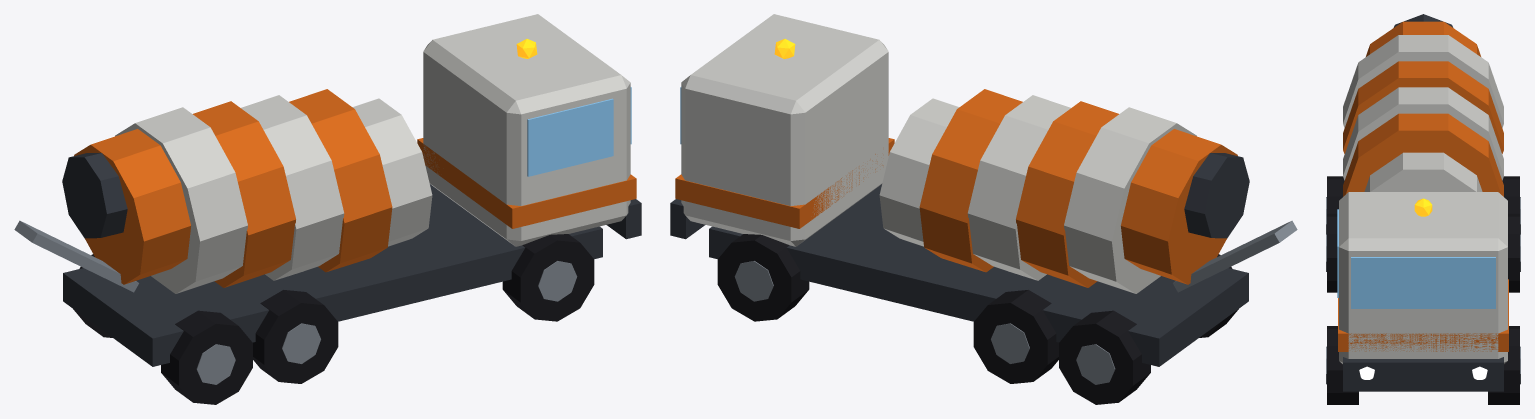
The model's file is mixer.glb.
The picture shows the model from 3 angles, left to right: view 1: azimuth 30°, elevation 25°; view 2: azimuth 150°, elevation 25°; view 3: azimuth 270°, elevation 25°; orthographic projection. The views are drawn at different scales.
Visible parts, largest first — view 1: mixer; view 2: mixer; view 3: mixer.
Part boxes in pixels (x1,y1,x2,y2): mixer: [14, 14, 641, 404]; mixer: [670, 14, 1297, 404]; mixer: [1326, 14, 1520, 404].
Bounding box in the file's own units: 7.46 × 2.95 × 2.42.
